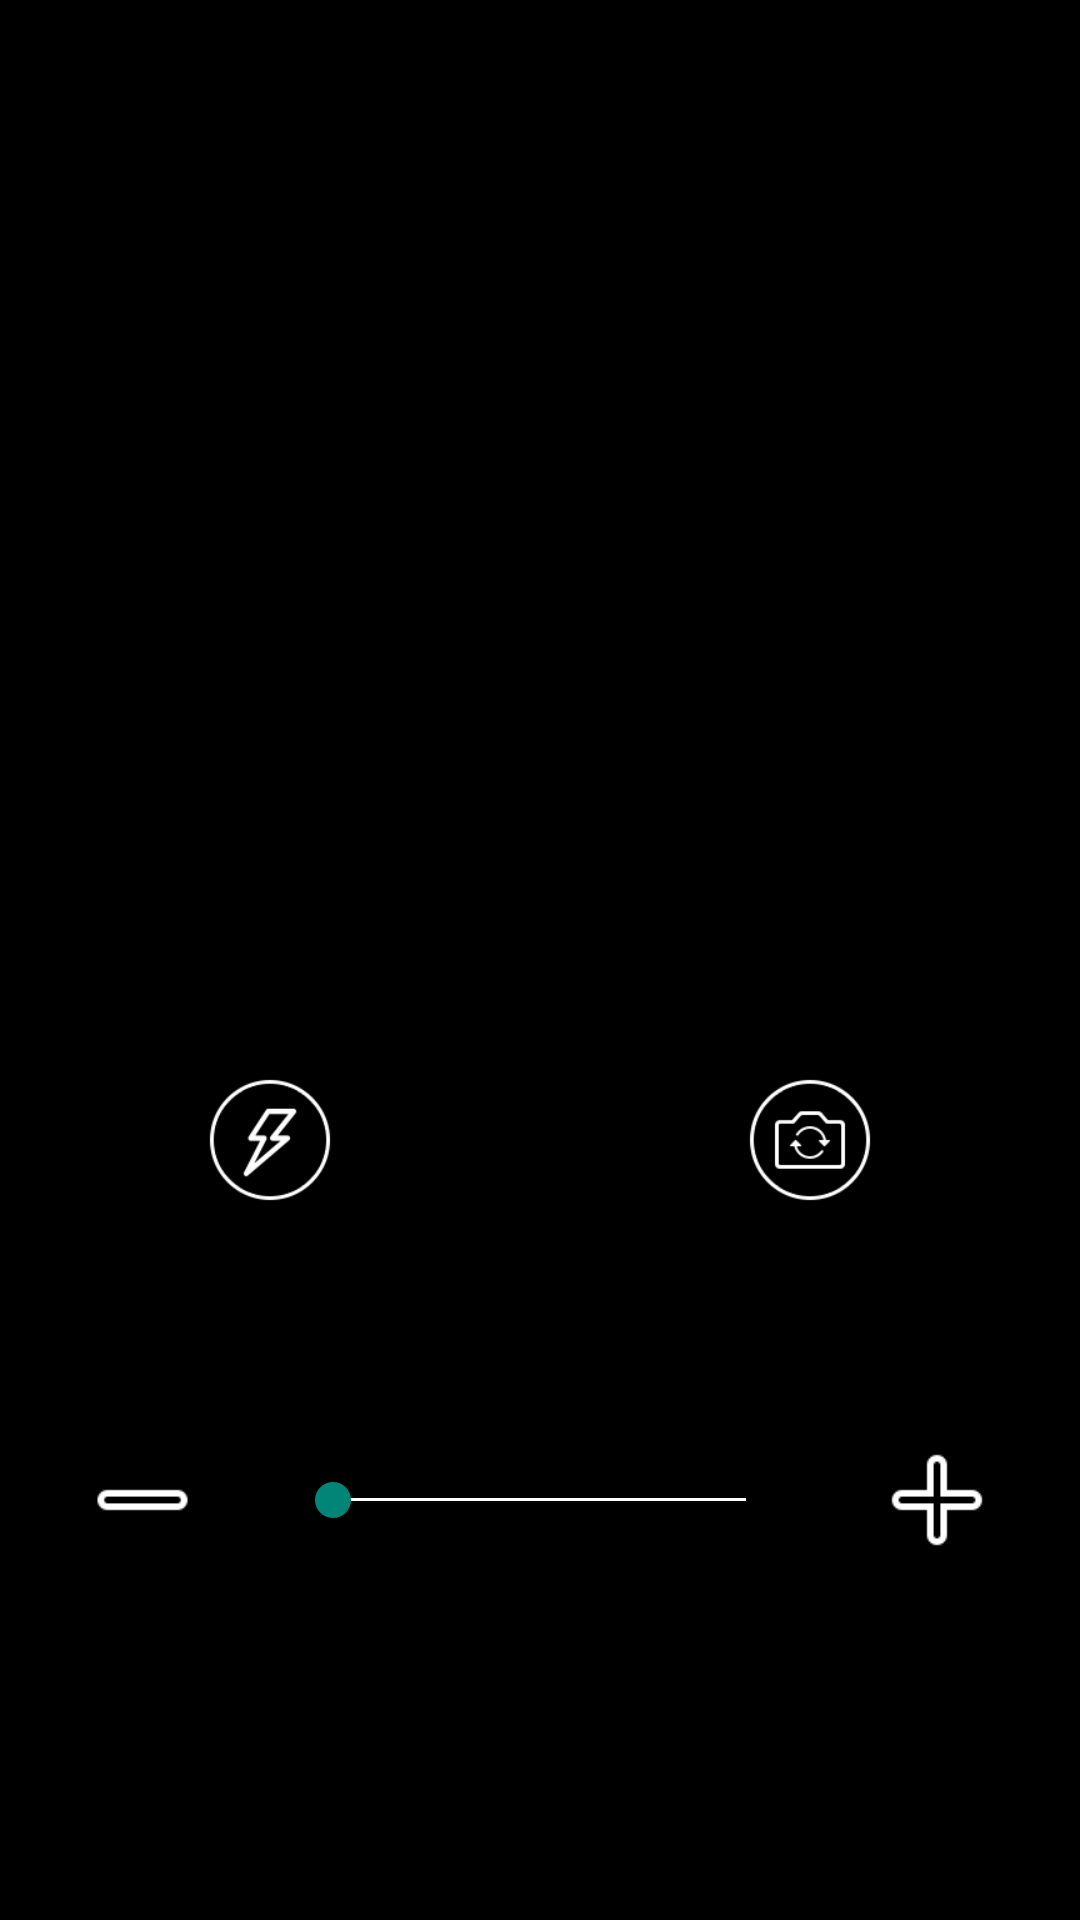

Icons on this 1080*1920 Android screen, each with the point to tap as (x,y):
camera picker: (810,1140)
flash close: (270,1140)
seekbar down: (142,1500)
seekbar up: (937,1500)
